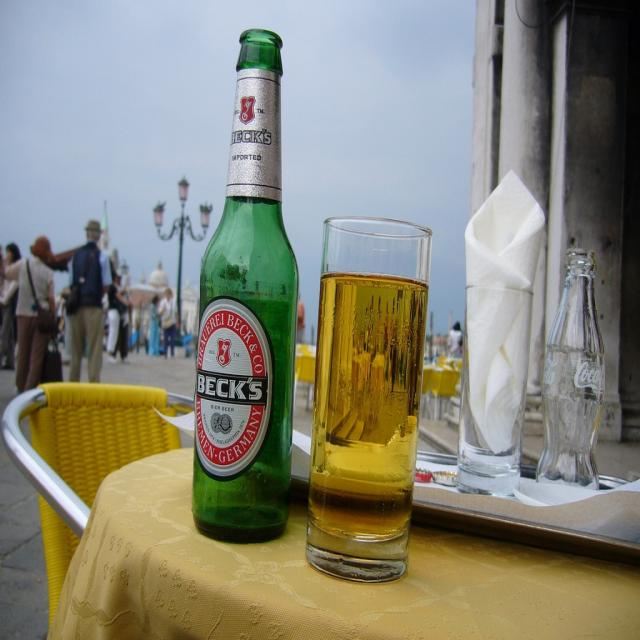becks: (196, 299, 275, 481)
